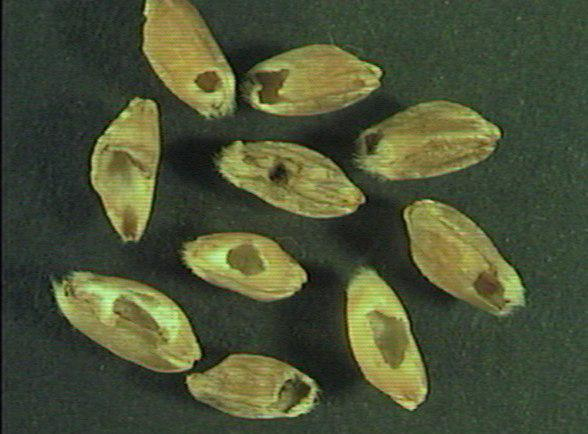damaged_wheat: (42, 276, 200, 396), (356, 88, 513, 196), (328, 281, 460, 409), (118, 1, 263, 114), (61, 112, 185, 244)
